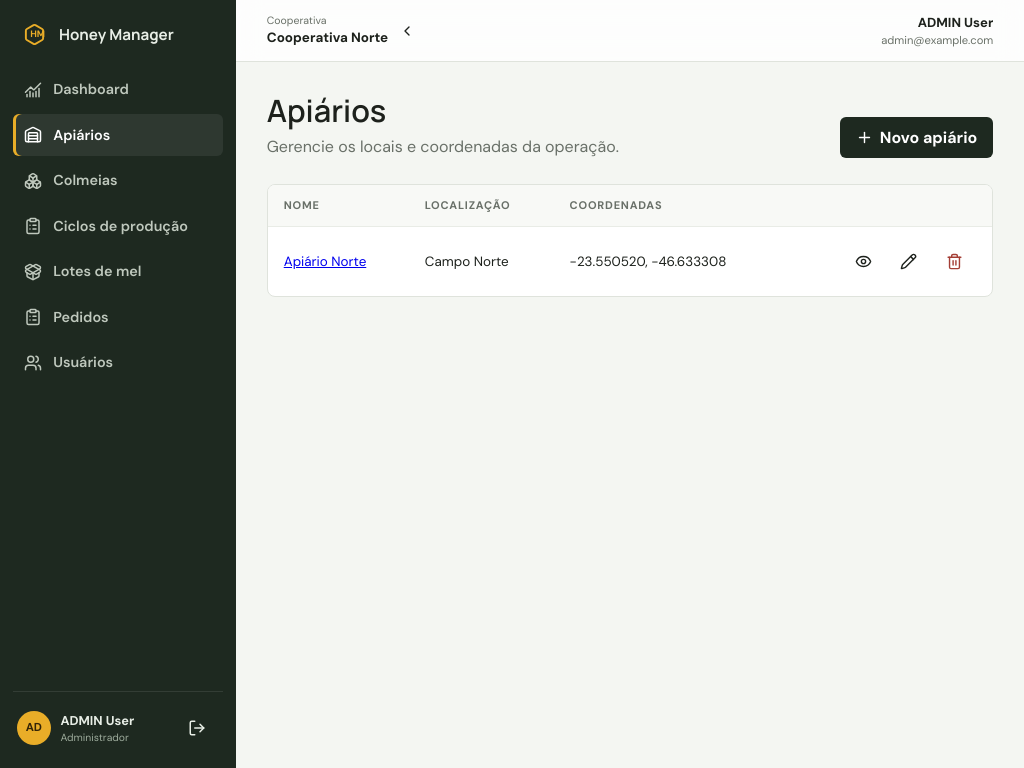
Test case: Apiary management › deletes only after confirmation and refreshes the list
This screenshot has width=1024, height=768.
Click the button named "Excluir Apiário Norte".
click(954, 261)  # box [932,239,976,283]
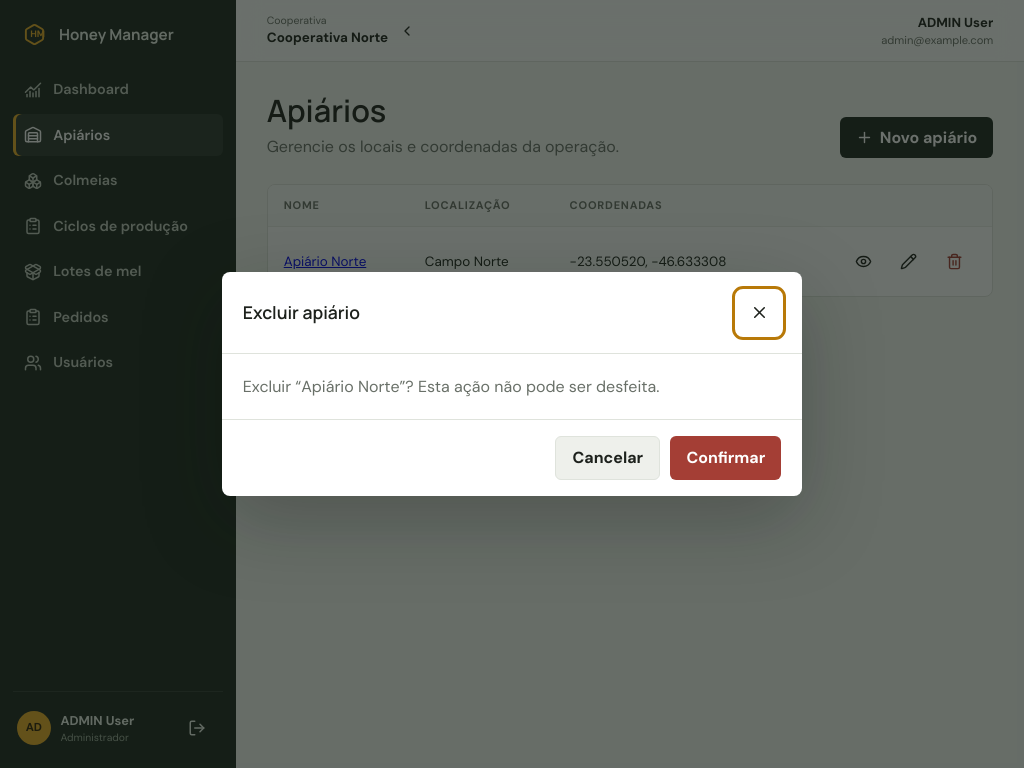
Now the dialog "Excluir apiário" is shown, box [222,272,802,496]
Click the button "Confirmar".
click(726, 458)  # box [670,436,781,480]
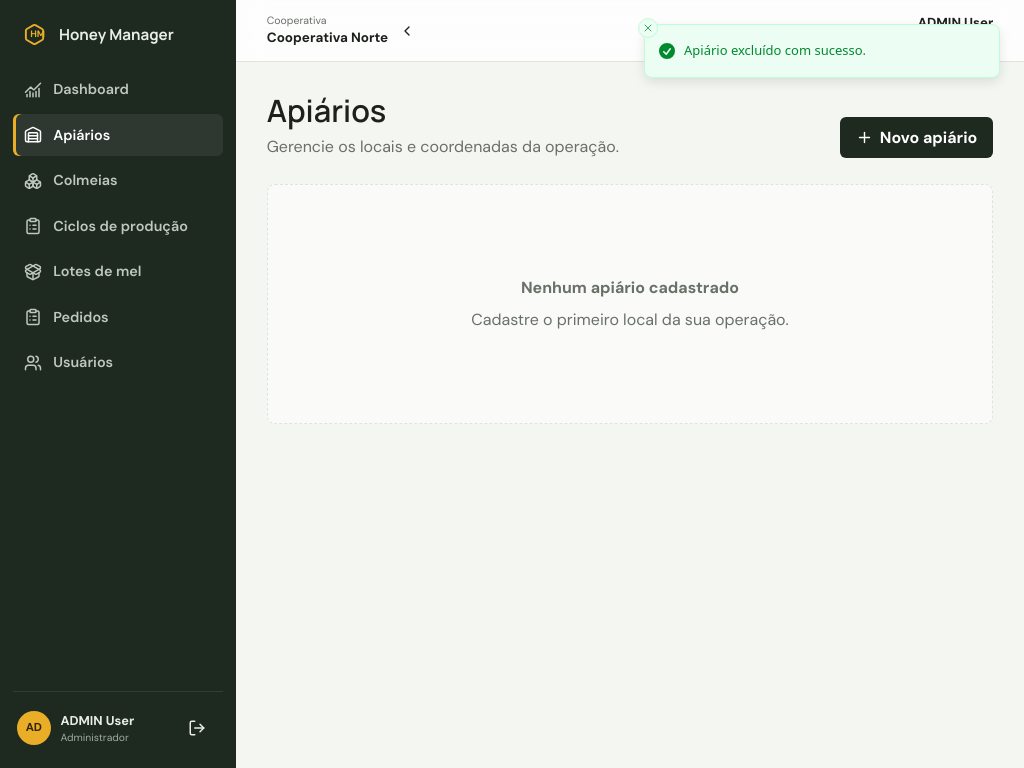
Now the text "Nenhum apiário cadastrado" is shown, box [521,276,739,300]
Now the text "Apiário excluído com sucesso." is shown, box [684,41,866,60]
